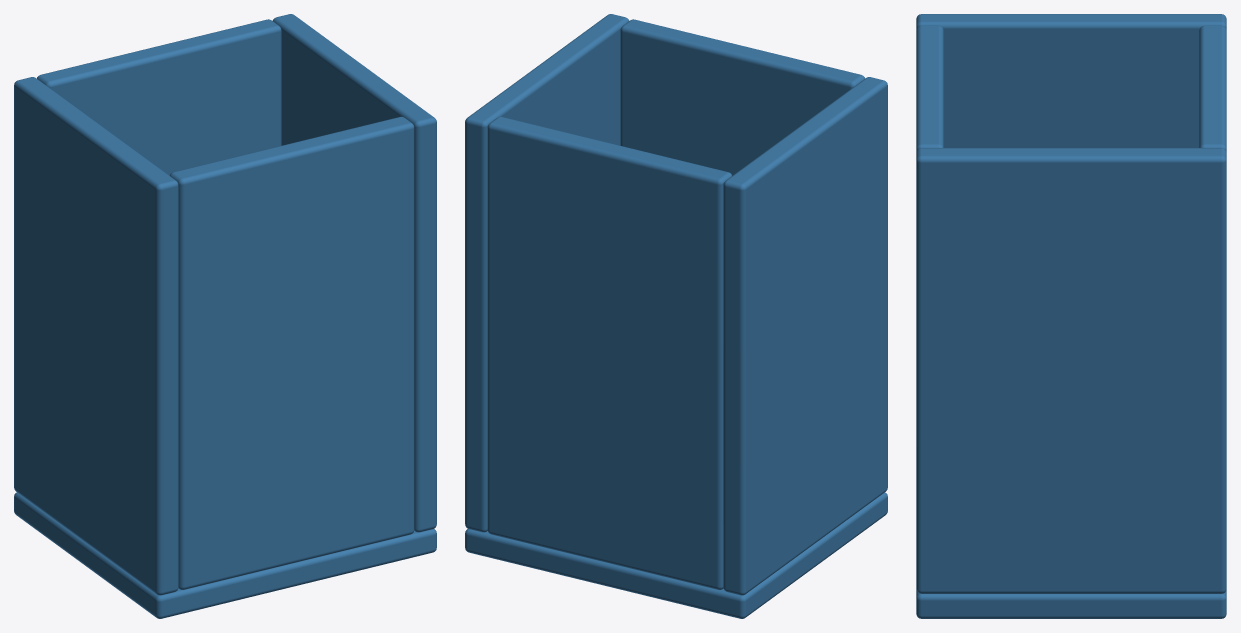
Rendered from squash-club-and-racket-workshop-towel-return-bin-1f2e29a4__29765.glb.
3 views of the same model, side by side, from view 1: azimuth 30°, elevation 25°; view 2: azimuth 150°, elevation 25°; view 3: azimuth 270°, elevation 25° (orthographic). The views are drawn at different scales.
Visible parts, largest first — view 1: towel-return-bin; view 2: towel-return-bin; view 3: towel-return-bin.
Boxes of the visible parts, x1,y1,x2,y2 form: towel-return-bin: [14, 14, 436, 618]; towel-return-bin: [465, 14, 887, 618]; towel-return-bin: [916, 14, 1226, 618].
Bounding box in the file's own units: 0.5 × 0.74 × 0.45.
